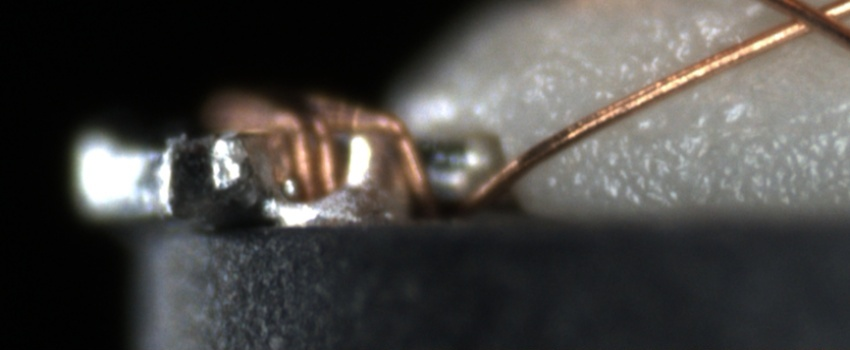CL: (765, 0, 844, 42)
DL: (637, 97, 850, 153)
TE: (210, 85, 441, 205)
